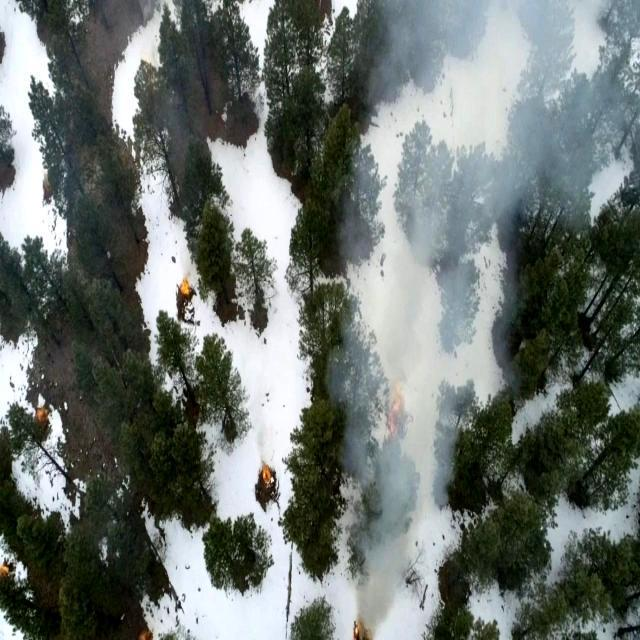Fire: (258, 460, 280, 494), (178, 278, 194, 318)
Smoke: (351, 0, 504, 629), (326, 0, 626, 294), (56, 0, 198, 267)
